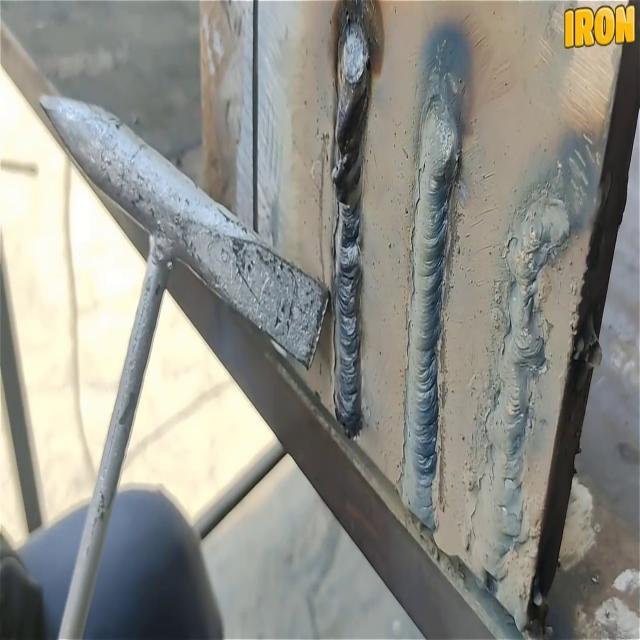Bad Weld: (470, 185, 566, 576), (326, 16, 372, 431)
Good Weld: (400, 96, 458, 526)
